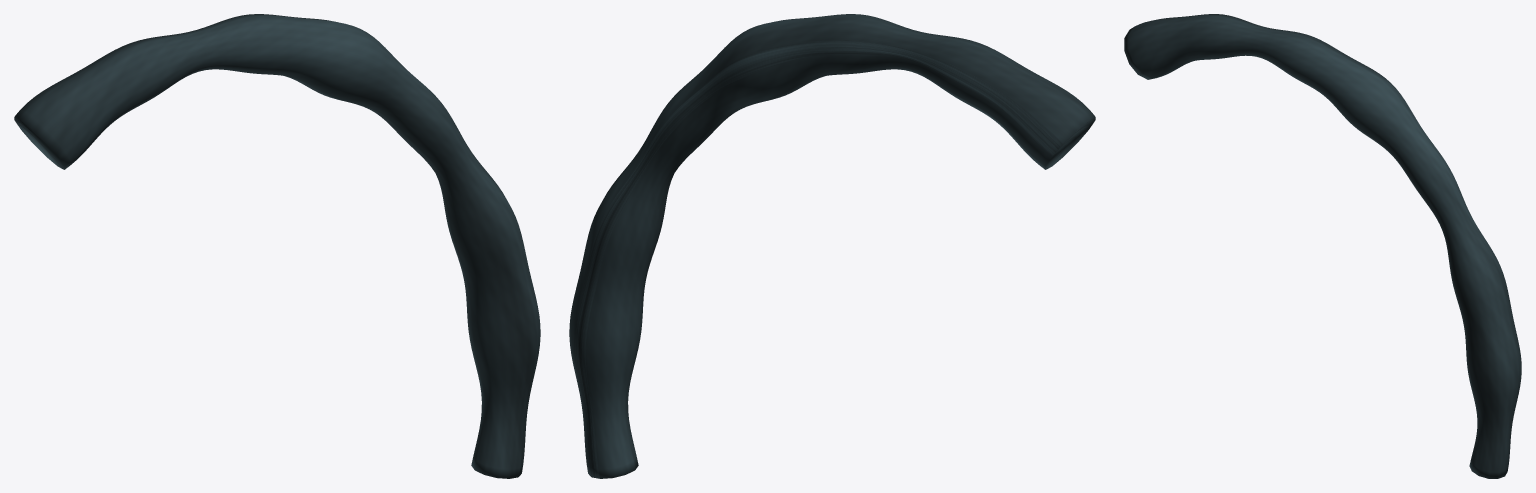
Rendered from SM_RelicArc_0.fbx.
The picture shows the model from 3 angles, left to right: view 1: azimuth 30°, elevation 25°; view 2: azimuth 150°, elevation 25°; view 3: azimuth 330°, elevation 25°; orthographic projection. The views are drawn at different scales.
Visible parts, largest first — view 1: SM_RelicArc_0.001; view 2: SM_RelicArc_0.001; view 3: SM_RelicArc_0.001.
Boxes of the visible parts, x1,y1,x2,y2 form: SM_RelicArc_0.001: (14,14,540,478); SM_RelicArc_0.001: (569,14,1095,478); SM_RelicArc_0.001: (1124,14,1521,478).
Size of the model in its own units: 2322 by 298 by 2232.
